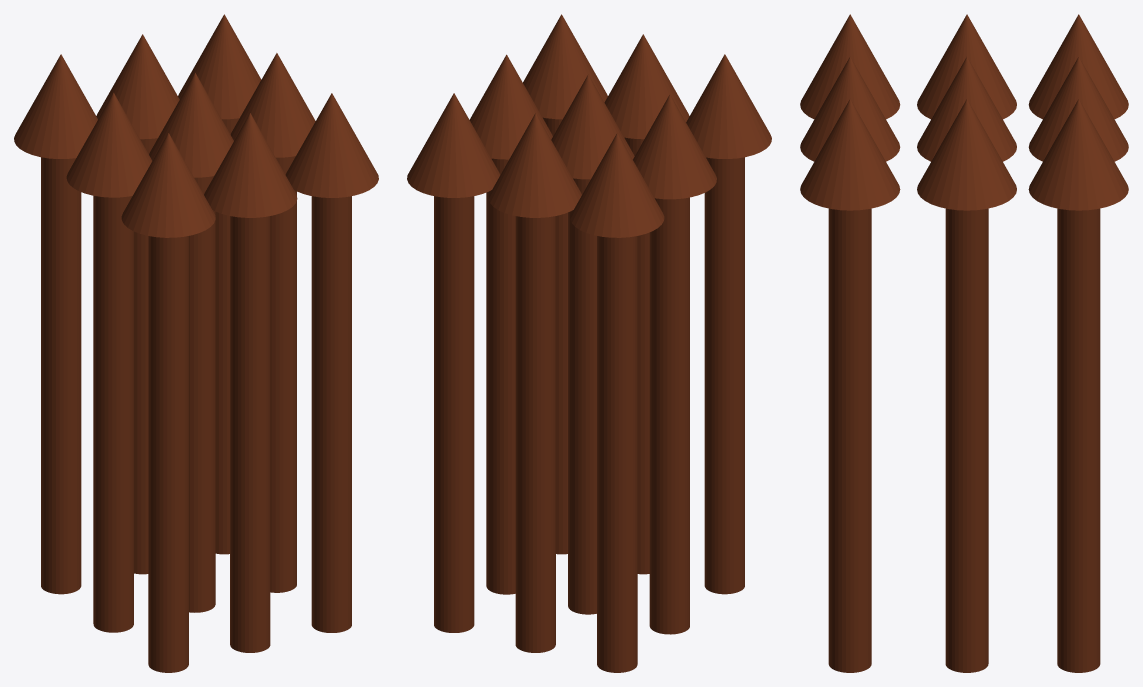
3 views of the same model, side by side, from view 1: azimuth 30°, elevation 25°; view 2: azimuth 150°, elevation 25°; view 3: azimuth 270°, elevation 25° (orthographic). The views are drawn at different scales.
Parts seen in each view (by area): view 1: Cone.002, Cone, Cone.001; view 2: Cone.001, Cone, Cone.002; view 3: Cone, Cone.001, Cone.002.
Part boxes in pixels (<box>): Cone.002: <box>121,93,378,672</box>; Cone: <box>66,53,315,632</box>; Cone.001: <box>14,14,261,594</box>; Cone.001: <box>407,93,664,672</box>; Cone: <box>469,54,716,634</box>; Cone.002: <box>523,14,771,594</box>; Cone: <box>917,14,1016,672</box>; Cone.001: <box>1028,14,1128,672</box>; Cone.002: <box>800,14,900,672</box>.
Size of the model in its own units: 170 by 352 by 186.
